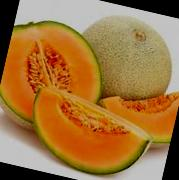Melon Ripe: (0, 11, 113, 141), (20, 84, 157, 180), (93, 75, 179, 145)
